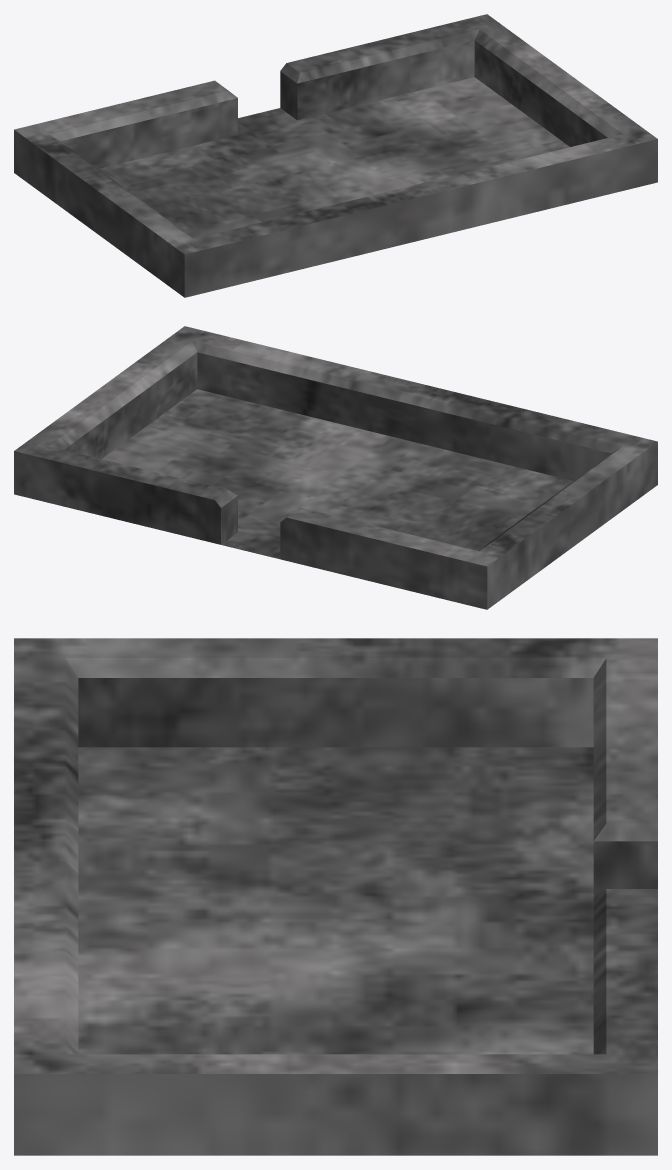
The model's file is RoomStartCoolBoi.fbx.
3 views of the same model, one above another, from view 1: azimuth 30°, elevation 25°; view 2: azimuth 150°, elevation 25°; view 3: azimuth 270°, elevation 25° (orthographic). The views are drawn at different scales.
Parts seen in each view (by area): view 1: Room36Mesh; view 2: Room36Mesh; view 3: Room36Mesh.
Boxes of the visible parts, x1=… form: Room36Mesh: x1=14, y1=14, x2=657, y2=297; Room36Mesh: x1=14, y1=326, x2=657, y2=609; Room36Mesh: x1=14, y1=638, x2=657, y2=1155.
Size of what is drawn, in the model's own units: 7600 by 665 by 4750.
